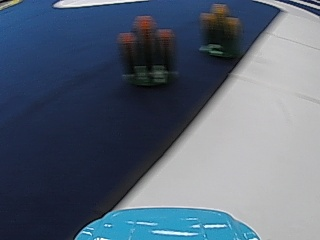corn: (121, 11, 170, 90), (199, 1, 242, 58)
